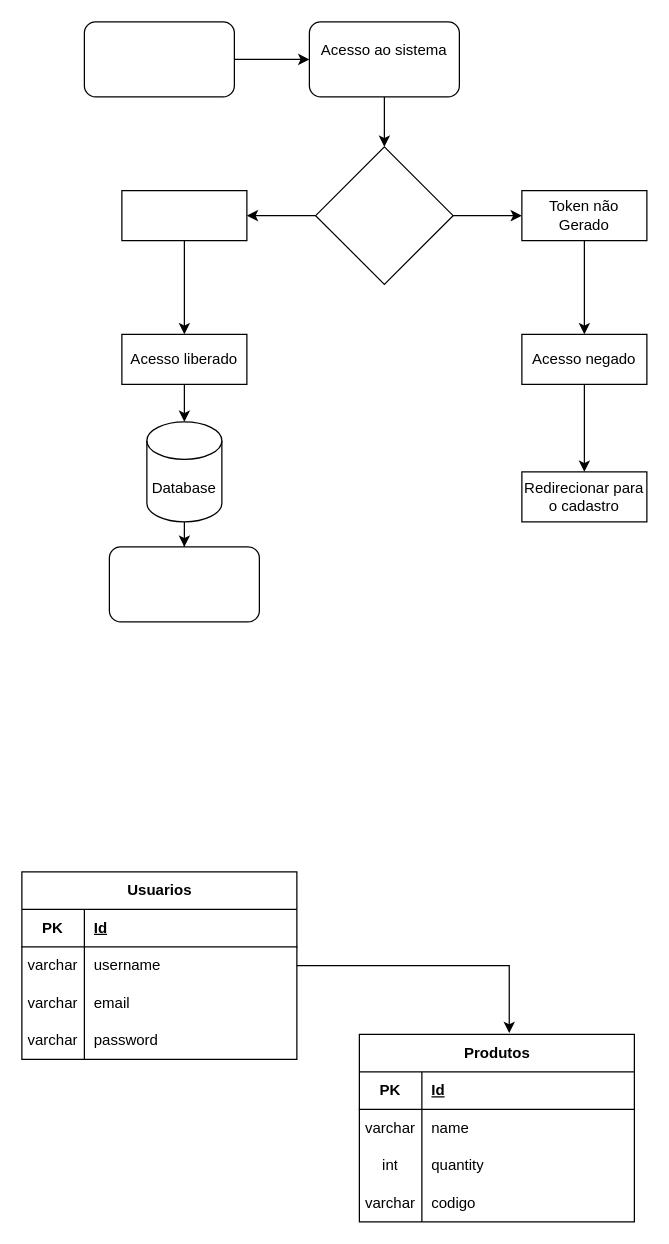
This 669x1244 diagram has some shape labels left out. The shapes that lost their labels are listed below. From the top down, each one's centre as x and y in pixels, then its label:
(x=158, y=59): Usuario/Empresa
(x=184, y=215): Token Gerado
(x=383, y=215): Email existe Senha valida
(x=183, y=584): Create Update Delete
